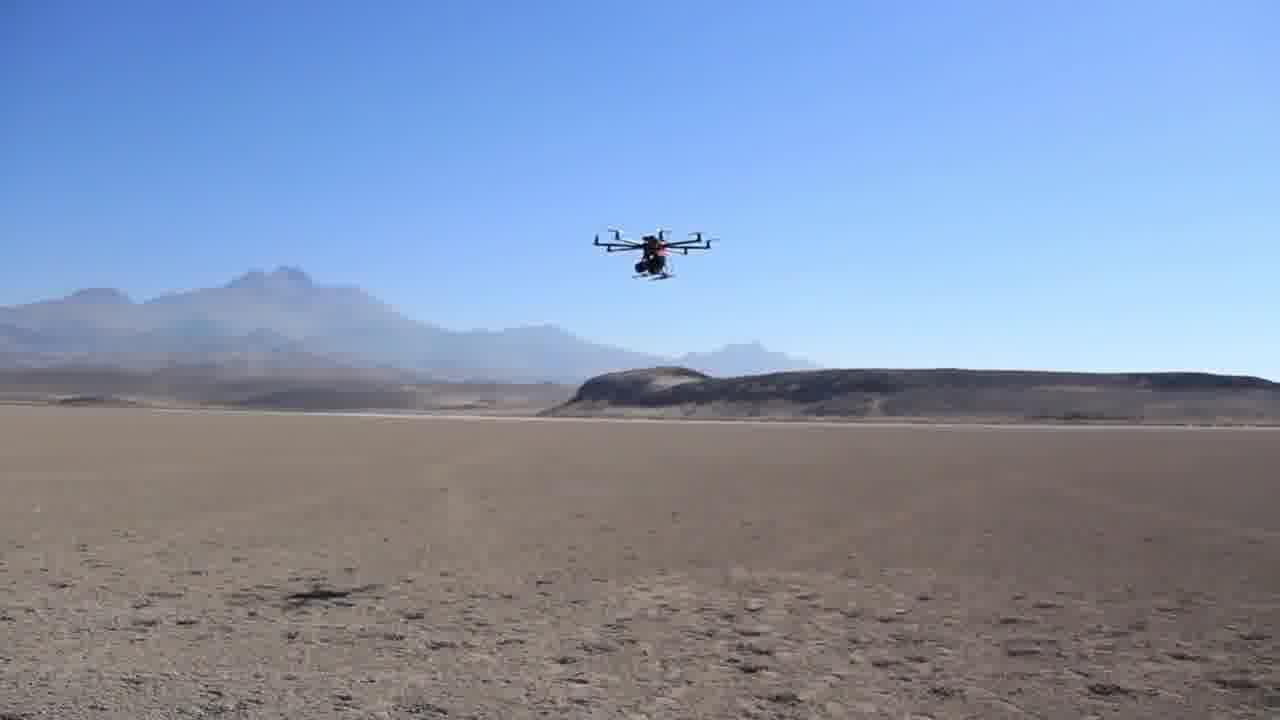drone: (583, 220, 725, 287)
